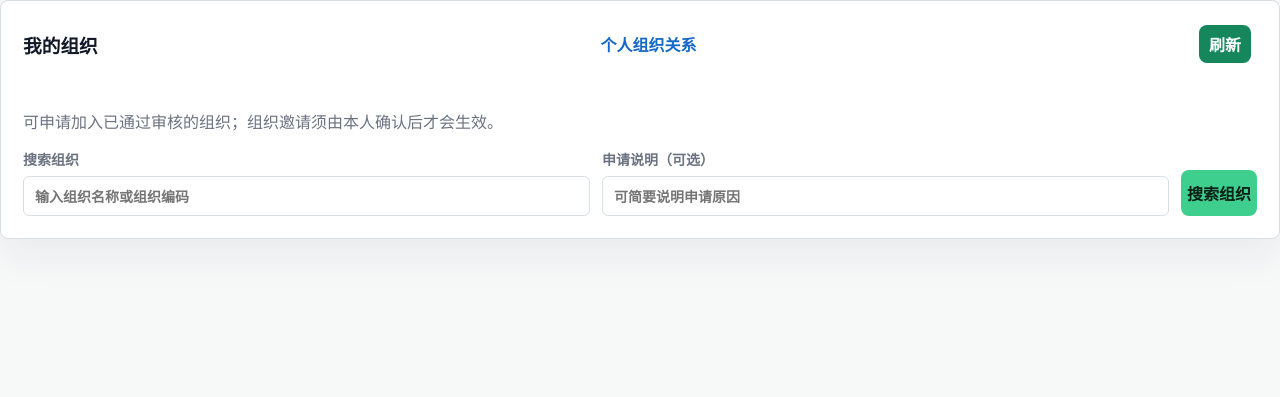
Test case: MyOrganizationPage › 允许用户手动刷新组织关系
The image size is (1280, 397).
Click the button "刷新". click: (1225, 44)
box: [1199, 25, 1251, 63]
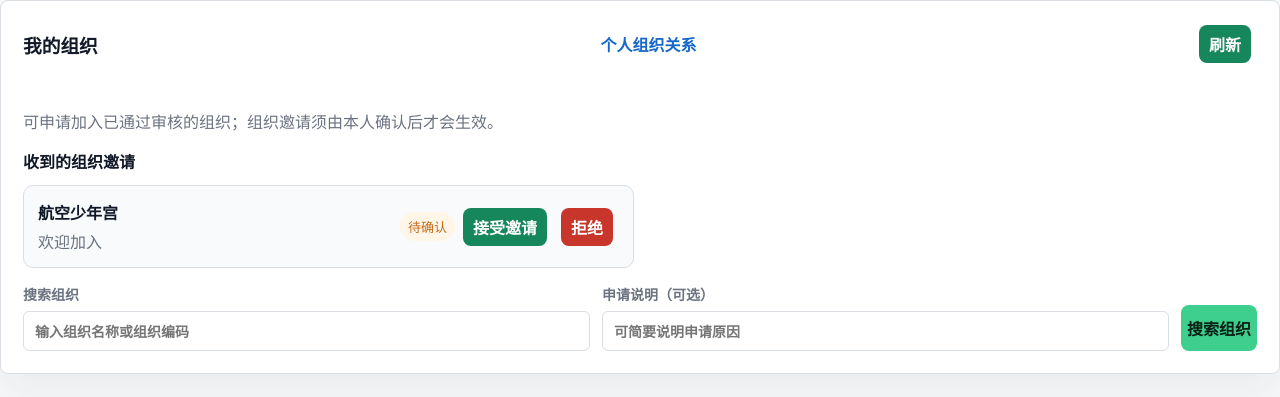
Expected: the button "接受邀请" is shown, [463, 208, 547, 246]
